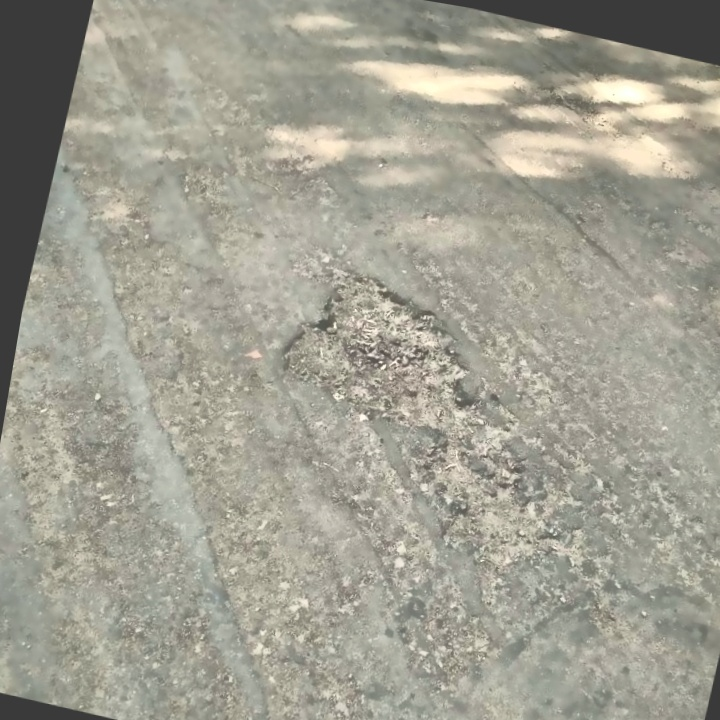pothole: (268, 257, 502, 456), (399, 439, 584, 580), (546, 88, 630, 135)
